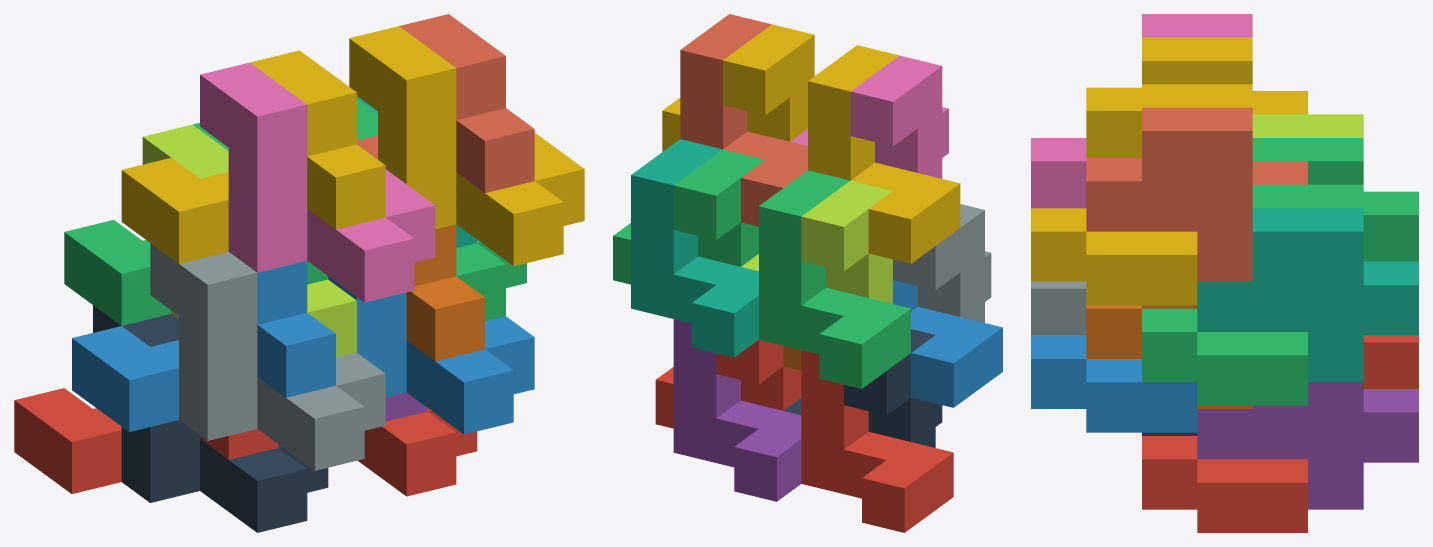
Rendered from tiling.obj.
3 renders of one model, left to right at view 1: azimuth 30°, elevation 25°; view 2: azimuth 150°, elevation 25°; view 3: azimuth 270°, elevation 25°, orthographic. The views are drawn at different scales.
Visible parts, largest first — view 1: copy_2_domain_4, copy_2_domain_2, copy_2_domain_8, copy_1_domain_4, copy_1_domain_2, copy_2_domain_1, copy_2_domain_6, copy_1_domain_8, copy_1_domain_1, copy_1_domain_3, copy_1_domain_6, copy_2_domain_5 (+3 smaller); view 2: copy_1_domain_3, copy_1_domain_7, copy_1_domain_1, copy_1_domain_4, copy_1_domain_5, copy_1_domain_8, copy_2_domain_4, copy_2_domain_8, copy_2_domain_7, copy_1_domain_2, copy_2_domain_3, copy_2_domain_2 (+2 smaller); view 3: copy_1_domain_7, copy_1_domain_8, copy_1_domain_5, copy_2_domain_7, copy_2_domain_8, copy_2_domain_5, copy_2_domain_6, copy_1_domain_4, copy_1_domain_3, copy_2_domain_4, copy_1_domain_6, copy_2_domain_2 (+2 smaller).
Part boxes in pixels (x1,y1,x2,y2): copy_2_domain_4: (200, 62, 435, 302); copy_2_domain_2: (150, 243, 385, 470); copy_2_domain_8: (349, 26, 584, 265); copy_1_domain_4: (121, 50, 385, 263); copy_1_domain_2: (72, 261, 335, 431); copy_2_domain_1: (93, 305, 328, 532); copy_2_domain_6: (328, 276, 534, 434); copy_1_domain_8: (357, 14, 534, 192); copy_1_domain_1: (14, 388, 278, 493); copy_1_domain_3: (64, 123, 328, 325); copy_1_domain_6: (406, 224, 484, 361); copy_2_domain_5: (357, 408, 477, 496); copy_1_domain_3: (759, 170, 910, 388); copy_1_domain_7: (631, 139, 758, 357); copy_1_domain_1: (801, 350, 953, 532); copy_1_domain_4: (808, 45, 960, 263); copy_1_domain_5: (673, 319, 801, 501); copy_1_domain_8: (680, 14, 807, 226); copy_2_domain_4: (790, 55, 948, 178); copy_2_domain_8: (662, 24, 814, 151); copy_2_domain_7: (613, 149, 764, 284); copy_1_domain_2: (893, 280, 1002, 407); copy_2_domain_3: (741, 180, 892, 303); copy_2_domain_2: (893, 204, 991, 322); copy_1_domain_7: (1197, 208, 1418, 382); copy_1_domain_8: (1086, 107, 1307, 281); copy_1_domain_5: (1197, 382, 1418, 509); copy_2_domain_7: (1142, 184, 1363, 405); copy_2_domain_8: (1031, 84, 1252, 305); copy_2_domain_5: (1142, 436, 1307, 532); copy_2_domain_6: (1031, 335, 1197, 432); copy_1_domain_4: (1086, 37, 1307, 157); copy_1_domain_3: (1252, 138, 1418, 261); copy_2_domain_4: (1031, 14, 1252, 208); copy_1_domain_6: (1086, 305, 1252, 408); copy_2_domain_2: (1031, 281, 1086, 335).
Bounding box in the file's own units: 8 × 8 × 7.
